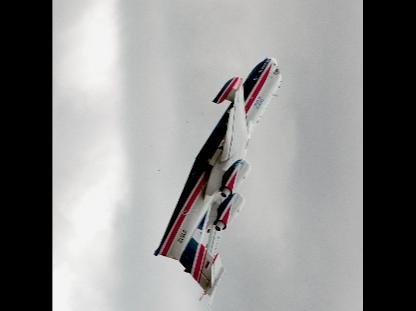B52: (153, 57, 283, 309)
